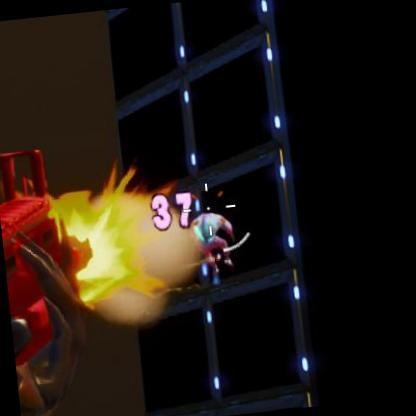person: (191, 212, 231, 277)
